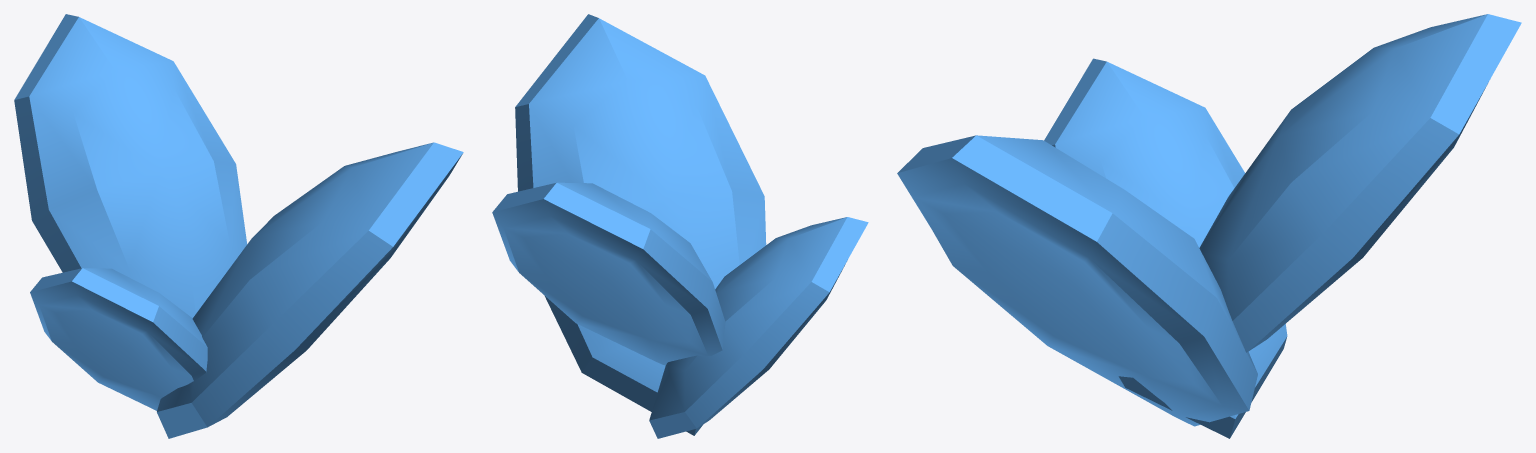
File: feathers.gltf.glb
3 views of the same model, side by side, from view 1: azimuth 30°, elevation 25°; view 2: azimuth 150°, elevation 25°; view 3: azimuth 270°, elevation 25° (orthographic). The views are drawn at different scales.
Parts seen in each view (by area): view 1: feathers; view 2: feathers; view 3: feathers.
Boxes of the visible parts, x1,y1,x2,y2 form: feathers: (14, 14, 463, 438); feathers: (492, 14, 868, 438); feathers: (897, 14, 1521, 438).
Bounding box in the file's own units: 0.4339 × 0.3877 × 0.5131.
